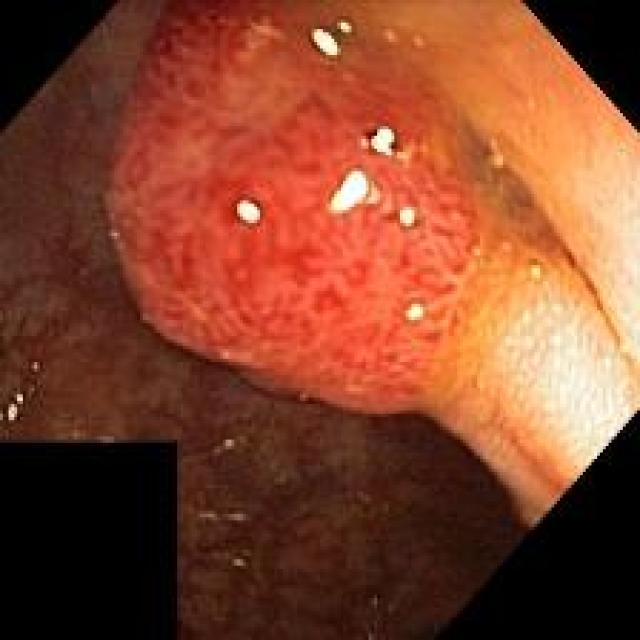Polyps: (106, 4, 638, 523)
